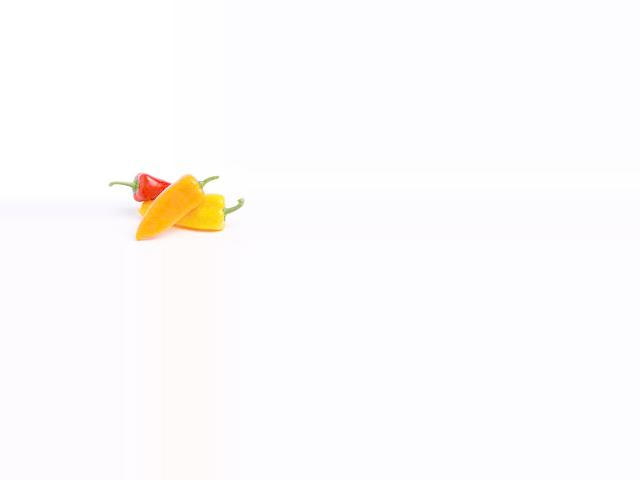bell_pepper: (165, 189, 247, 239)
